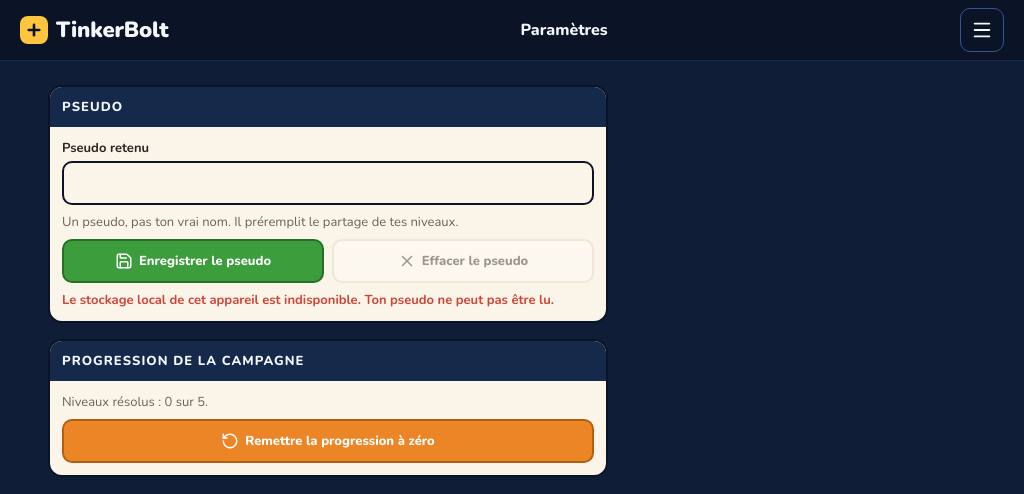
Test: Paramètres — pseudo retenu (U11, ADR 0016 § Pseudo) › reste affichée quand les préférences ne peuvent pas être lues
The image size is (1024, 494).
Expected: the message shows "Le stockage local de cet appareil est indisponible. Ton pseudo ne peut pas être lu.", [62,291,554,309]
Type "Noé" into the field labelled "Pseudo retenu".
click(328, 183); type("Noé")  # box [62,161,594,205]
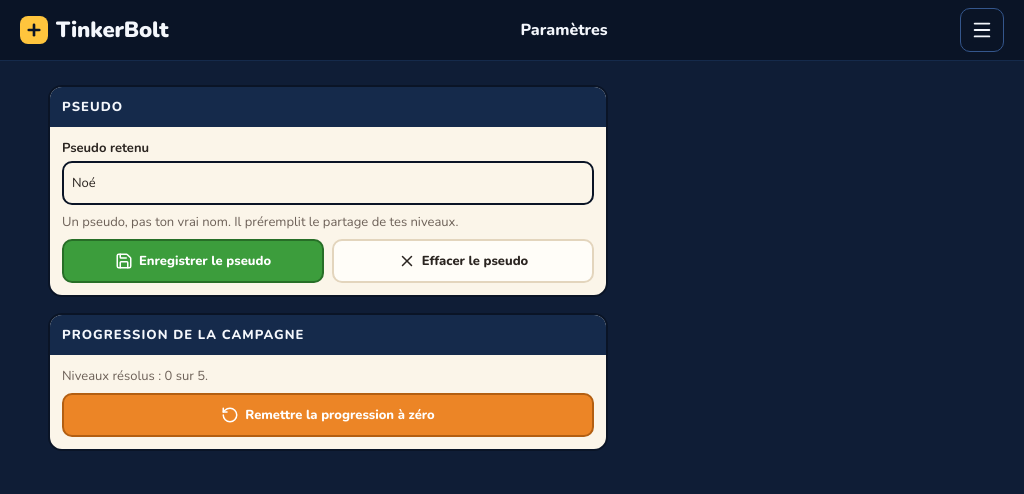
Click the button "Enregistrer le pseudo".
click(193, 261)  # box [62,239,324,283]
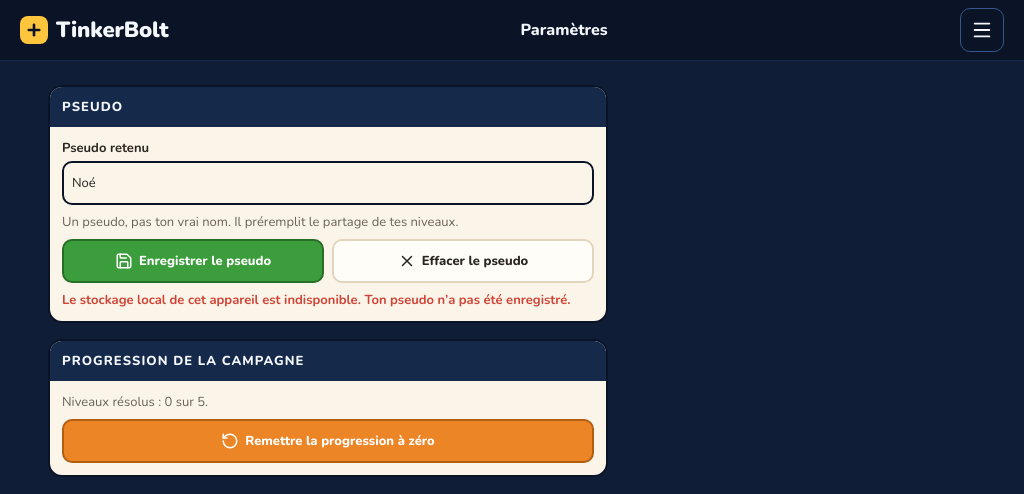
Now the message shows "Le stockage local de cet appareil est indisponible. Ton pseudo n’a pas été enregistré.", box [62,291,570,309]
